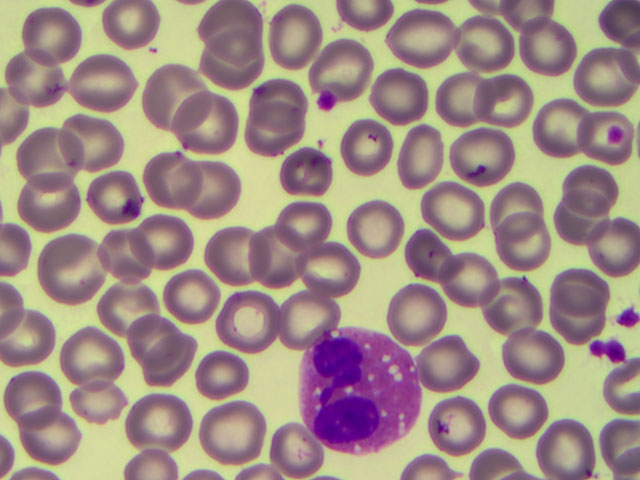Platelets: (587, 339, 629, 364), (314, 91, 341, 112), (615, 308, 640, 329)
RBC: (489, 169, 548, 230), (500, 224, 559, 285), (251, 420, 310, 480), (116, 420, 175, 480), (538, 420, 597, 480), (581, 420, 640, 480), (17, 5, 76, 64), (8, 52, 67, 111), (67, 51, 126, 110), (64, 113, 123, 172), (24, 124, 83, 183), (15, 167, 74, 226), (83, 171, 142, 230), (92, 225, 151, 284), (136, 206, 195, 265), (28, 242, 87, 301), (1, 312, 60, 371), (57, 324, 116, 383), (75, 368, 134, 427), (23, 410, 82, 469), (8, 367, 67, 426), (147, 334, 206, 393), (133, 305, 192, 364), (98, 279, 157, 338), (166, 260, 225, 319), (215, 236, 274, 295), (250, 222, 309, 281), (284, 194, 343, 253), (194, 162, 253, 221), (153, 149, 212, 208), (183, 95, 242, 154), (144, 68, 203, 127), (206, 36, 265, 95), (103, 2, 162, 61), (255, 4, 314, 63), (314, 32, 373, 91), (251, 62, 310, 121), (240, 97, 299, 156), (278, 143, 337, 202), (337, 122, 396, 181), (367, 68, 426, 127), (388, 4, 447, 63), (451, 19, 510, 78), (513, 12, 572, 71), (484, 65, 543, 124), (437, 66, 496, 125), (382, 117, 441, 176), (455, 131, 514, 190), (482, 162, 541, 221), (430, 176, 489, 235), (405, 220, 464, 279), (350, 198, 409, 257), (307, 236, 366, 295), (281, 275, 340, 334), (233, 291, 292, 350), (191, 335, 250, 394), (204, 413, 263, 472), (140, 391, 199, 450), (421, 388, 480, 447), (416, 319, 475, 378), (386, 288, 445, 347), (446, 253, 505, 312), (484, 289, 543, 348), (505, 330, 564, 389), (490, 364, 549, 423), (556, 284, 615, 343), (558, 261, 617, 320), (581, 199, 640, 258), (564, 195, 623, 254), (570, 157, 629, 216), (532, 91, 591, 150), (581, 110, 640, 169), (581, 43, 640, 102), (204, 1, 263, 59)
WBC: (304, 331, 422, 446)
